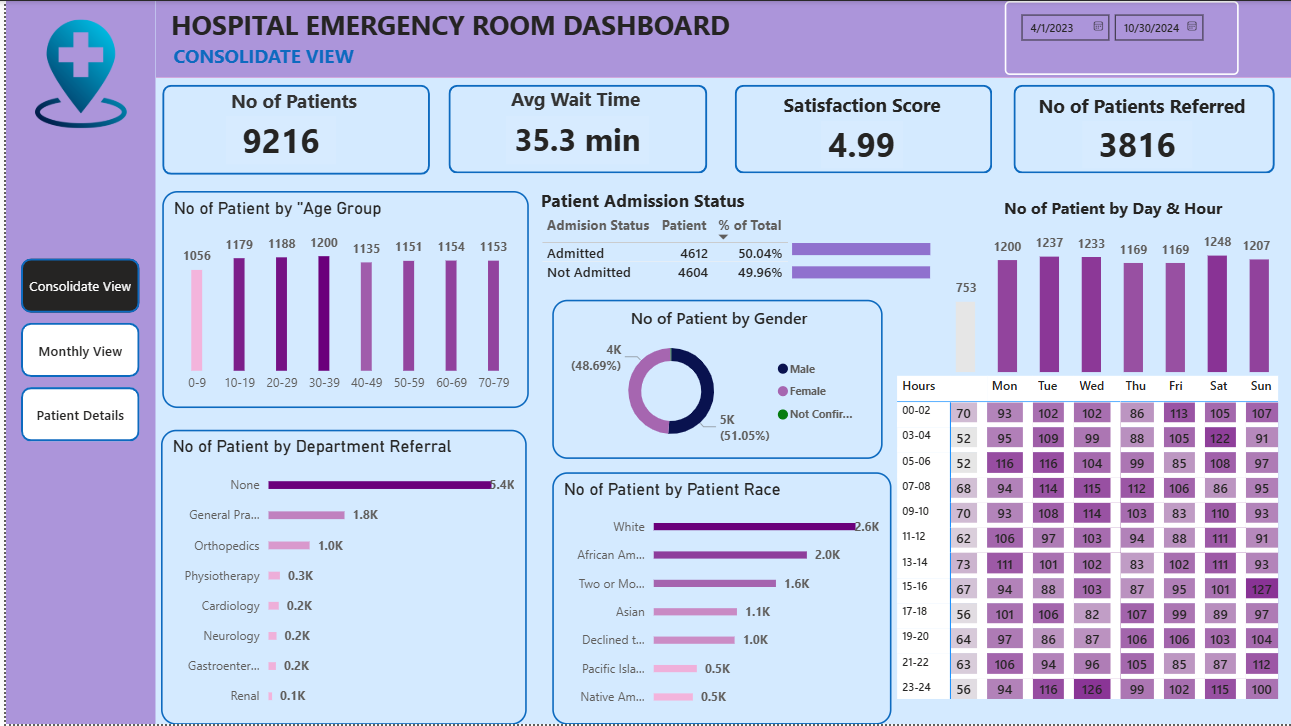

The page's visual inventory and layout, read from the dashboard file:
{"tool":"powerbi","page":{"name":"Consolidate View","canvas":[1280,720],"ordinal":0},"visuals":[{"type":"shape","box":[155.3,83.3,266.4,89.6],"z":0},{"type":"shape","box":[0,0,148.8,720],"z":1000},{"type":"shape","box":[149,0,1131.3,75.8],"z":2000},{"type":"textbox","box":[159.1,0,588.4,46.7],"z":3000},{"type":"textbox","box":[162.1,37.9,193.5,41.8],"z":4000},{"type":"card","fields":{"Values":["Hospital ER_Data.No of Patient"]},"box":[218.3,115.1,109.8,48.4],"z":5000},{"type":"textbox","box":[218.7,81.5,137.5,43.8],"z":6000},{"type":"shape","box":[440.6,83.3,257.6,88.4],"z":7000},{"type":"card","fields":{"Values":["Hospital ER_Data.Avg Wait Time"]},"box":[497.5,114.9,142.7,48],"z":8000},{"type":"textbox","box":[497.5,79,152.5,40],"z":9000},{"type":"shape","box":[1002.5,83.3,260.1,88.4],"z":10000},{"type":"card","fields":{"Values":["Hospital ER_Data.No of Patient Reffered"]},"box":[1070.8,119,109.8,47.1],"z":11000},{"type":"textbox","box":[1022.7,87.1,217.2,42.9],"z":12000},{"type":"shape","box":[724.7,83.3,256.3,88.4],"z":13000},{"type":"card","fields":{"Values":["Hospital ER_Data.Satisfaction Score"]},"box":[811.2,119,81.2,47.5],"z":14000},{"type":"textbox","box":[768.7,85.3,171.2,43.8],"z":15000},{"type":"columnChart","fields":{"Category":["Hospital ER_Data.\"Age Group"],"Y":["Hospital ER_Data.No of Patient"]},"box":[155.3,189.4,364.9,215.9],"z":16000},{"type":"clusteredBarChart","fields":{"Category":["Hospital ER_Data.Department Referral"],"Y":["Hospital ER_Data.No of Patient"]},"box":[153.8,426.2,363.8,293.8],"z":17000},{"type":"group","id":"g1","title":"Group 1","box":[527.8,186.9,439.4,108.6],"z":18000},{"type":"donutChart","title":"No of Patient by Gender","fields":{"Y":["Hospital ER_Data.No of Patient"],"Category":["Hospital ER_Data.Patient Gender"]},"box":[543.8,297.5,328.8,158.8],"z":19000},{"type":"clusteredBarChart","fields":{"Y":["Hospital ER_Data.No of Patient"],"Category":["Hospital ER_Data.Patient Race"]},"box":[543.8,468.8,337.5,251.2],"z":20000},{"type":"pivotTable","fields":{"Rows":["Hospital ER_Data.Time Interval"],"Columns":["Data Table 1.Day"],"Values":["Hospital ER_Data.No of Patient"]},"box":[881.4,368.6,398.6,351.4],"z":21000},{"type":"image","box":[15.2,13.9,118.7,117.4],"z":22000},{"type":"tableEx","title":"Patient Admission Status","fields":{"Values":["Hospital ER_Data.Admision Status","Hospital ER_Data.No of Patient1","Hospital ER_Data.No of Patient"]},"box":[527.8,186.9,419.7,104.8],"z":23000,"group":"g1"},{"type":"slicer","fields":{"Values":["Data Table 1.Date"]},"box":[993.7,0,232.7,73.2],"z":23000},{"type":"barChart","fields":{"Category":["Hospital ER_Data.Admision Status"],"Y":["Hospital ER_Data.No of Patient"]},"box":[778.2,217.2,189,78.3],"z":24000,"group":"g1"},{"type":"pageNavigator","box":[14.9,256.3,118.2,184.1],"z":25000},{"type":"columnChart","title":"No of Patient by Day & Hour","fields":{"Category":["Data Table 1.Day Name"],"Y":["Hospital ER_Data.No of Patient"]},"box":[940,194.3,322.9,181.4],"z":26000}]}

Visuals, with their boxes in screenshot pixels (x1, y1, x2, y2), scaled from the page's 1280x720 canvas onto the 1291x726 screenshot:
shape: box(157, 84, 425, 174)
shape: box(0, 0, 150, 725)
shape: box(150, 0, 1290, 76)
textbox: box(160, 0, 754, 47)
textbox: box(163, 38, 359, 80)
card - Hospital ER_Data.No of Patient: box(220, 116, 331, 165)
textbox: box(221, 82, 359, 126)
shape: box(444, 84, 704, 173)
card - Hospital ER_Data.Avg Wait Time: box(502, 116, 646, 164)
textbox: box(502, 80, 656, 120)
shape: box(1011, 84, 1273, 173)
card - Hospital ER_Data.No of Patient Reffered: box(1080, 120, 1191, 167)
textbox: box(1031, 88, 1251, 131)
shape: box(731, 84, 989, 173)
card - Hospital ER_Data.Satisfaction Score: box(818, 120, 900, 168)
textbox: box(775, 86, 948, 130)
columnChart - Hospital ER_Data."Age Group x Hospital ER_Data.No of Patient: box(157, 191, 525, 409)
clusteredBarChart - Hospital ER_Data.Department Referral x Hospital ER_Data.No of Patient: box(155, 430, 522, 725)
"Group 1" group: box(532, 188, 976, 298)
"No of Patient by Gender" donutChart: box(548, 300, 880, 460)
clusteredBarChart - Hospital ER_Data.No of Patient x Hospital ER_Data.Patient Race: box(548, 473, 889, 725)
pivotTable - Hospital ER_Data.Time Interval x Data Table 1.Day: box(889, 372, 1290, 725)
image: box(15, 14, 135, 132)
"Patient Admission Status" tableEx: box(532, 188, 956, 294)
slicer - Data Table 1.Date: box(1002, 0, 1237, 74)
barChart - Hospital ER_Data.Admision Status x Hospital ER_Data.No of Patient: box(785, 219, 976, 298)
pageNavigator: box(15, 258, 134, 444)
"No of Patient by Day & Hour" columnChart: box(948, 196, 1274, 379)
